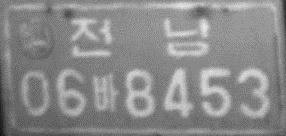0: (18, 69, 51, 118)
3: (236, 65, 272, 120)
4: (162, 68, 193, 118)
5: (198, 66, 232, 119)
6: (55, 67, 86, 118)
8: (123, 67, 156, 119)
바: (91, 72, 118, 114)
영: (16, 15, 57, 61)
전남_D: (68, 16, 211, 61)
